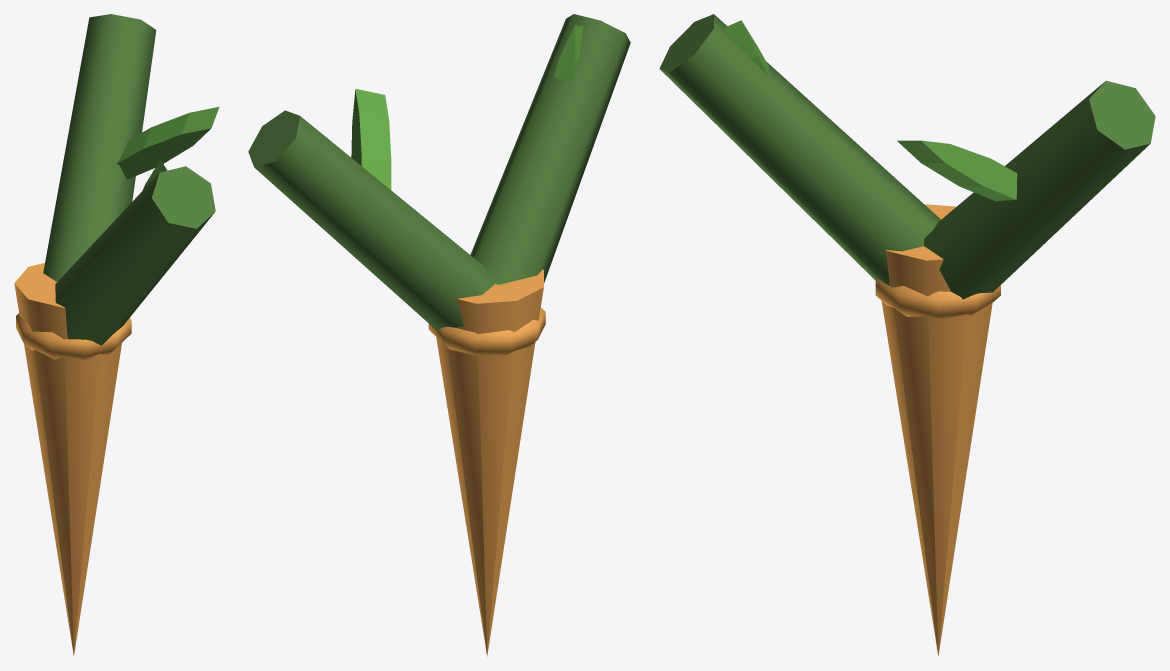
The model's file is carrot-sprout.glb.
3 renders of one model, left to right at view 1: azimuth 30°, elevation 25°; view 2: azimuth 150°, elevation 25°; view 3: azimuth 270°, elevation 25°, orthographic. The views are drawn at different scales.
Visible parts, largest first — view 1: carrot_sprout_stem, carrot_sprout_carrotLight, carrot_sprout_leaf; view 2: carrot_sprout_stem, carrot_sprout_carrotLight, carrot_sprout_leaf; view 3: carrot_sprout_stem, carrot_sprout_carrotLight, carrot_sprout_leaf.
Part boxes in pixels (bbox=[...]): carrot_sprout_stem: bbox=[43, 14, 215, 345]; carrot_sprout_carrotLight: bbox=[14, 263, 131, 655]; carrot_sprout_leaf: bbox=[116, 106, 219, 190]; carrot_sprout_stem: bbox=[248, 14, 630, 331]; carrot_sprout_carrotLight: bbox=[428, 269, 545, 656]; carrot_sprout_leaf: bbox=[351, 25, 583, 189]; carrot_sprout_stem: bbox=[659, 14, 1155, 299]; carrot_sprout_carrotLight: bbox=[875, 204, 1000, 655]; carrot_sprout_leaf: bbox=[722, 20, 1017, 201].
Size of the model in its own units: 0.0516 by 0.1352 by 0.0954.
